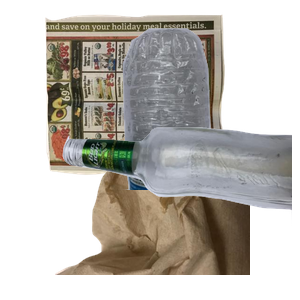glass: (60, 124, 300, 300)
paper: (42, 12, 260, 185)
plastic: (111, 26, 300, 206)
trash: (52, 120, 292, 300)
